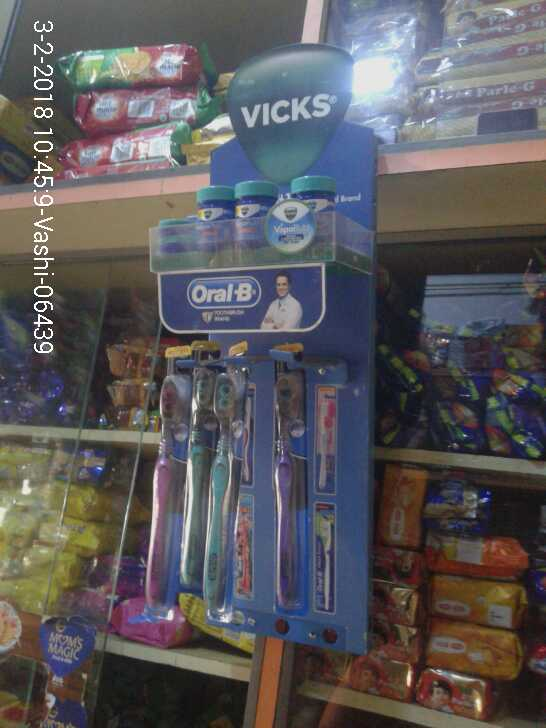vicks: (193, 174, 359, 252)
